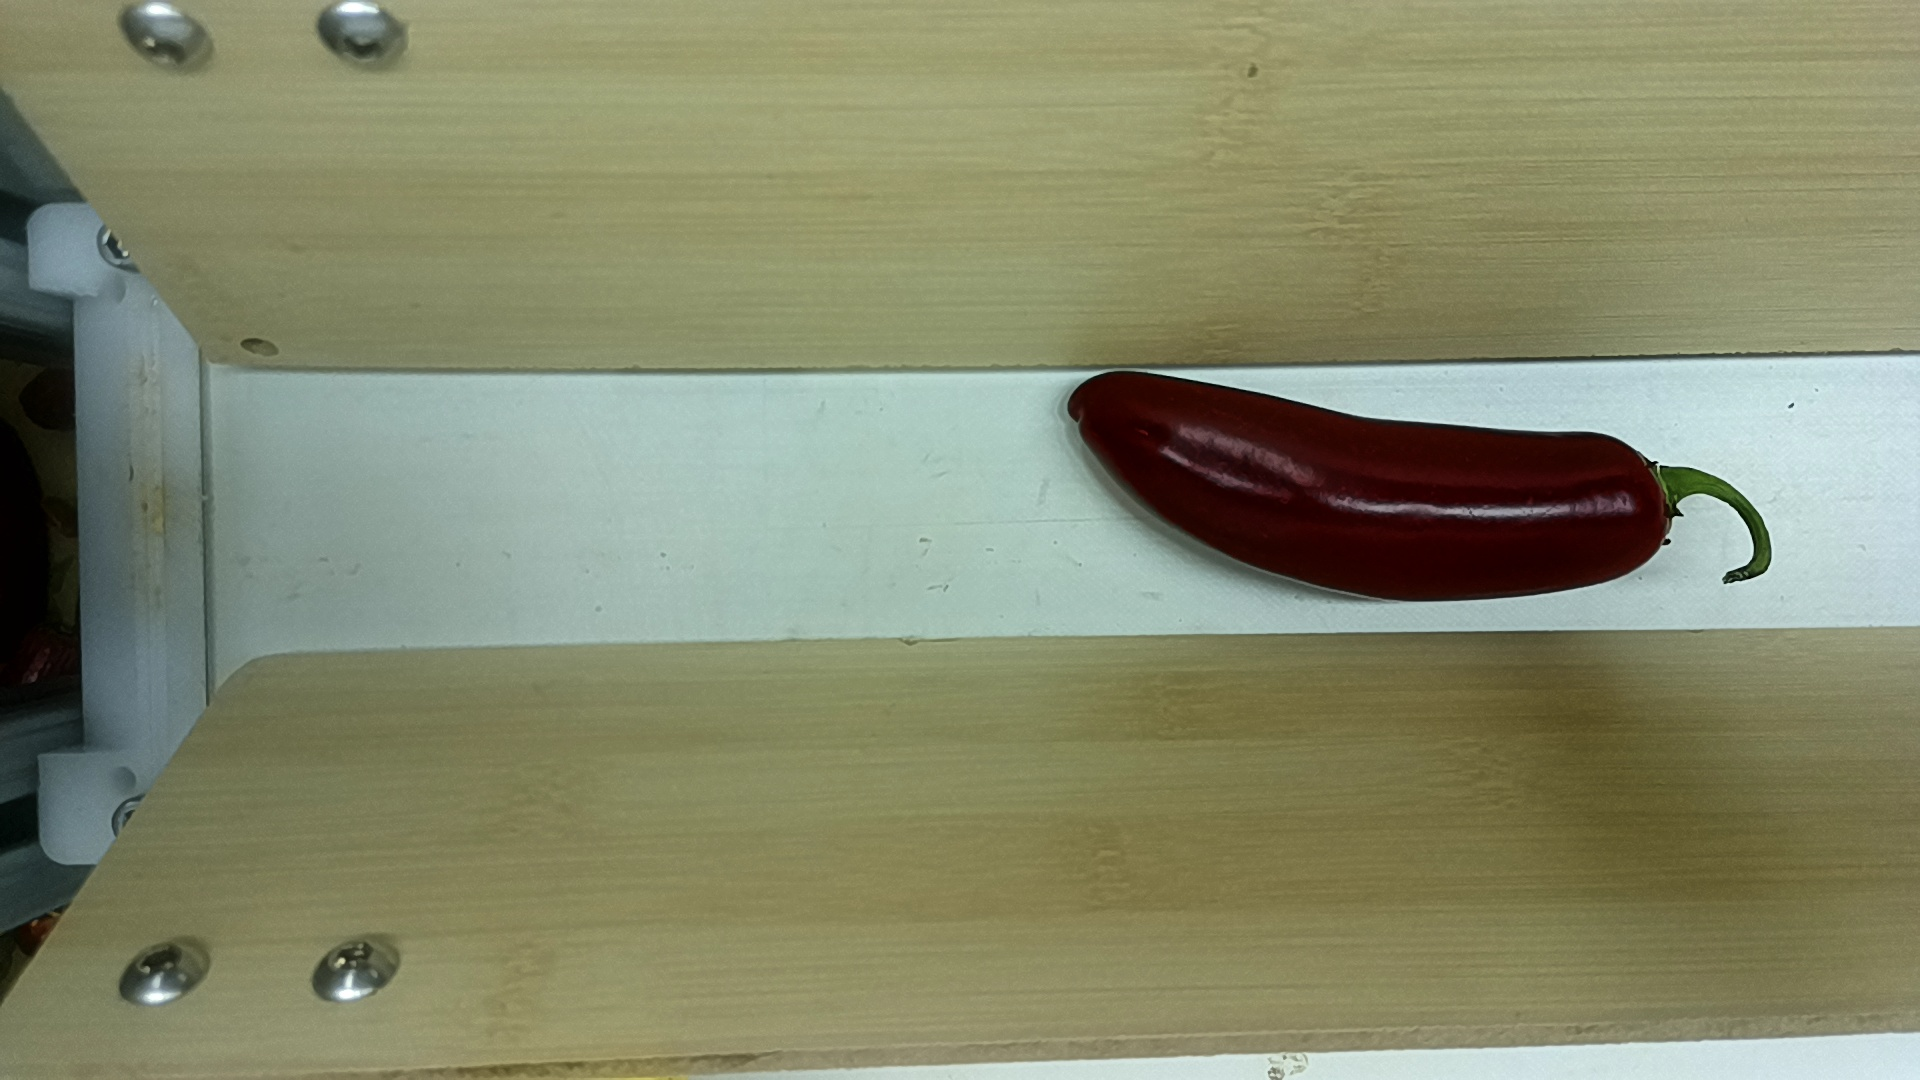Cut Point: (1604, 425, 1695, 582)
